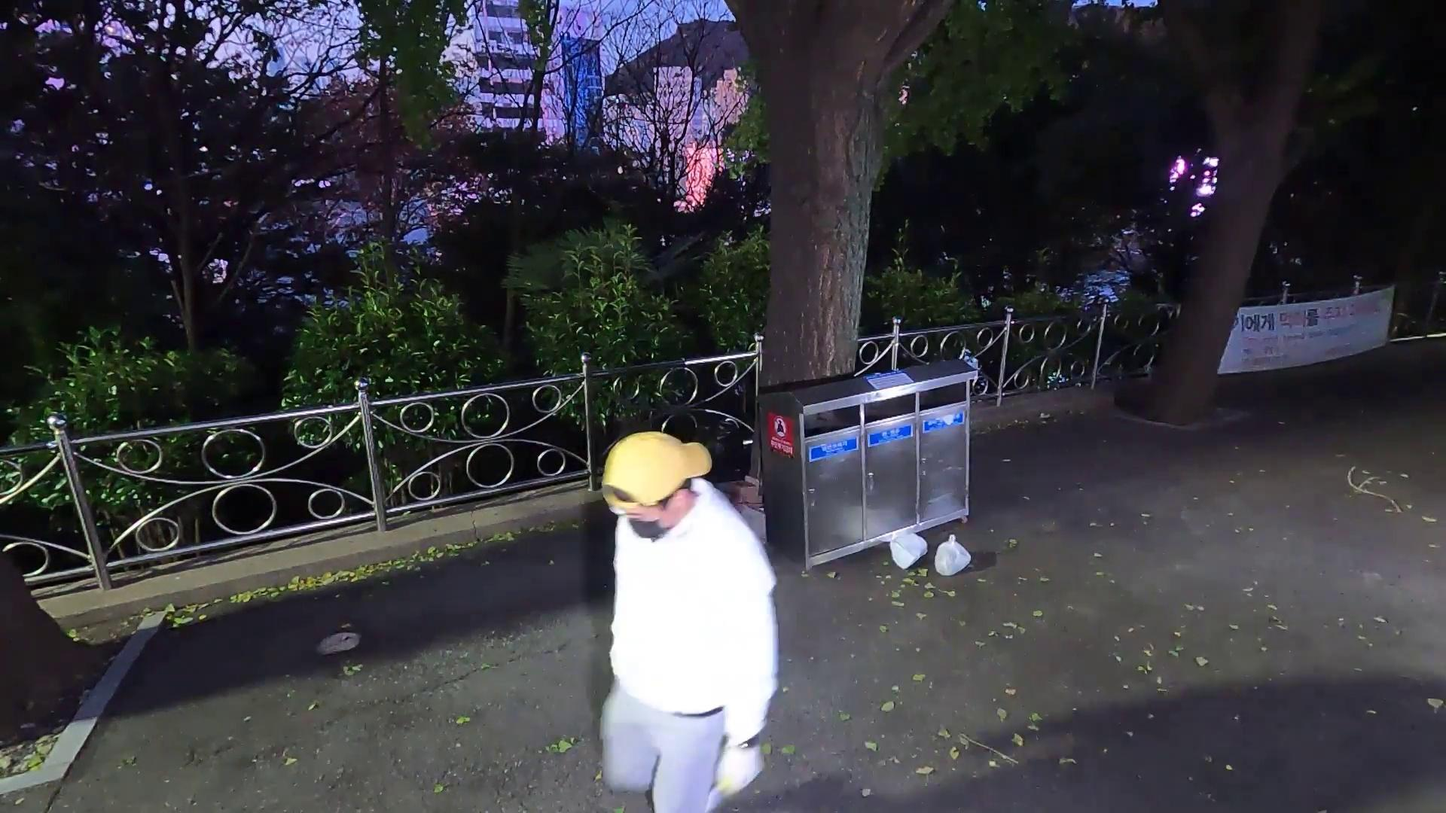person: (591, 430, 779, 813)
trash: (930, 530, 975, 576), (881, 531, 926, 569), (730, 479, 768, 506)
